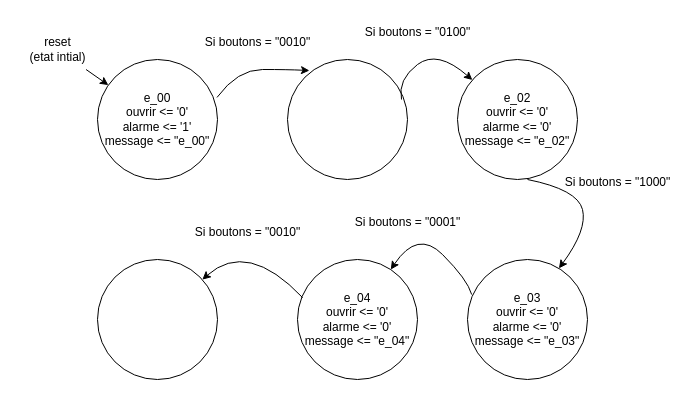
Image size: 699x397. Some labels were removed from this diagram. The shapes that lost their labels are listed below. From the top down, each one's centre as x and y in pixels, then its label:
[347,119]: e_01 ouvrir <= '0' alarme <= '0' message <= "e_01"
[157,319]: e_05 ouvrir <= '1' alarme <= '0' message <= "e_05"
